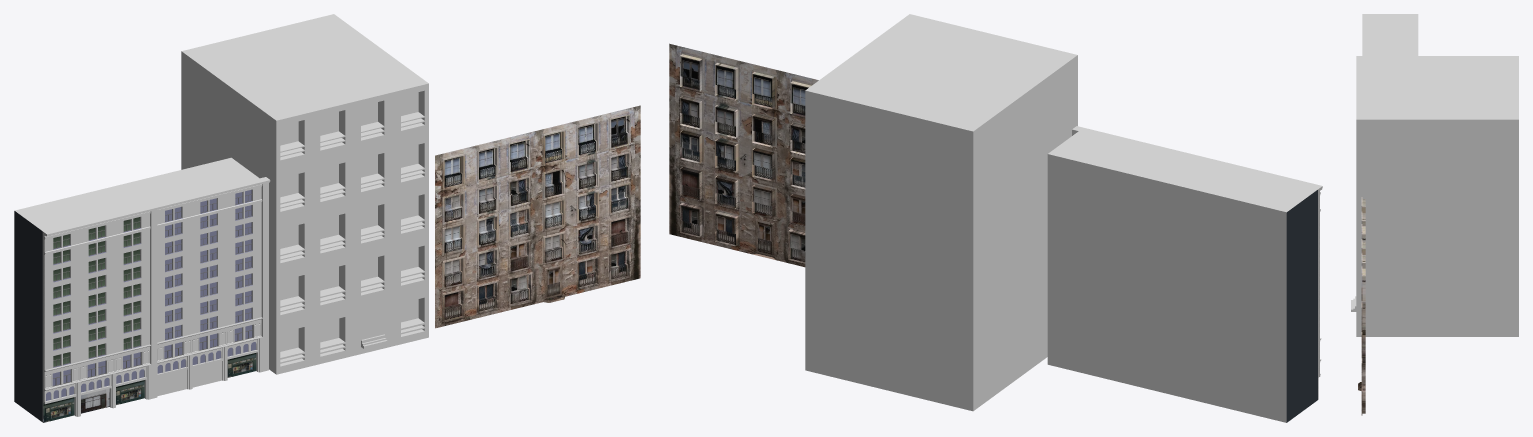
3 renders of one model, left to right at view 1: azimuth 30°, elevation 25°; view 2: azimuth 150°, elevation 25°; view 3: azimuth 270°, elevation 25°, orthographic. The views are drawn at different scales.
Parts seen in each view (by area): view 1: Cube.008, Building facade, textura-sem-emenda-da-casa-suja-27617858_gon2sh; view 2: Cube.008, Building facade, textura-sem-emenda-da-casa-suja-27617858_gon2sh; view 3: Cube.008, Building facade, textura-sem-emenda-da-casa-suja-27617858_gon2sh.
Part boxes in pixels (left/top/right/bottom): Cube.008: left=181, top=14, right=428, bottom=374; Building facade: left=14, top=157, right=270, bottom=422; textura-sem-emenda-da-casa-suja-27617858_gon2sh: left=435, top=105, right=640, bottom=328; Cube.008: left=805, top=14, right=1077, bottom=411; Building facade: left=1047, top=126, right=1322, bottom=422; textura-sem-emenda-da-casa-suja-27617858_gon2sh: left=669, top=43, right=818, bottom=267; Cube.008: left=1351, top=56, right=1518, bottom=336; Building facade: left=1362, top=14, right=1418, bottom=55; textura-sem-emenda-da-casa-suja-27617858_gon2sh: left=1358, top=197, right=1365, bottom=415.
Size of the model in its own units: 10886 by 4454 by 3118.
Materials: 11 (5 with a texture image).
